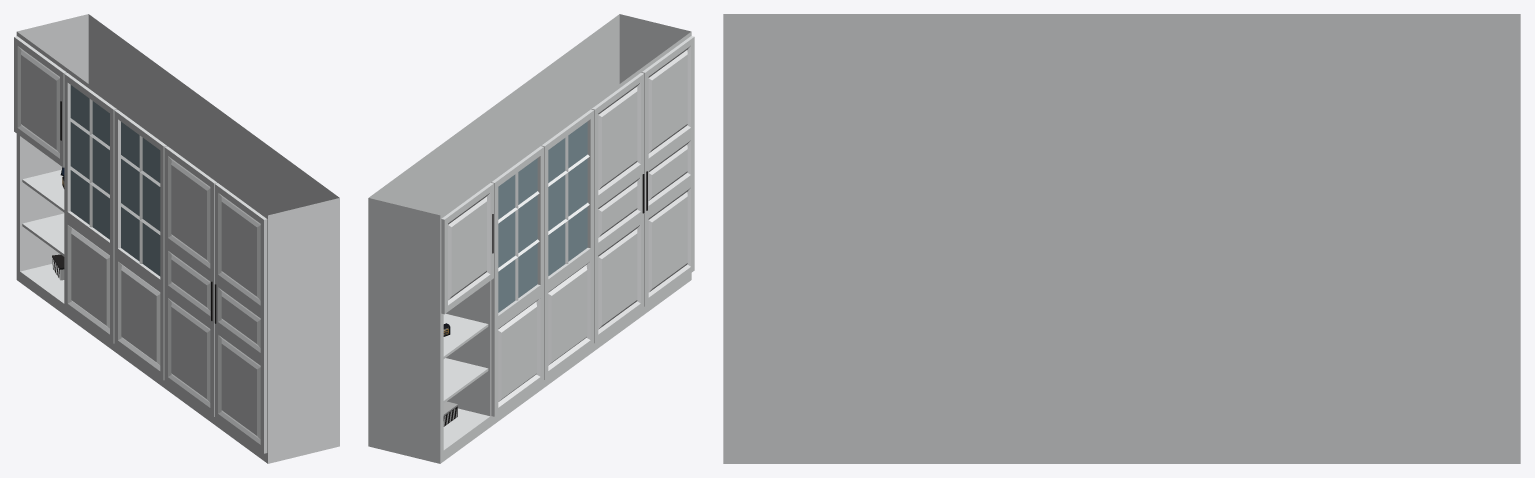
The model's file is M_yigui01.FBX.
3 views of the same model, side by side, from view 1: azimuth 30°, elevation 25°; view 2: azimuth 150°, elevation 25°; view 3: azimuth 270°, elevation 25° (orthographic). The views are drawn at different scales.
Parts seen in each view (by area): view 1: M_yigui01_01, M_yigui01_02; view 2: M_yigui01_01, M_yigui01_02; view 3: M_yigui01_01.
Part boxes in pixels (x1,y1,x2,y2): M_yigui01_01: [14, 14, 339, 463]; M_yigui01_02: [70, 85, 160, 276]; M_yigui01_01: [368, 14, 694, 463]; M_yigui01_02: [498, 121, 587, 312]; M_yigui01_01: [723, 14, 1520, 463].
Bounding box in the file's own units: 1.26 × 3.93 × 7.19.
